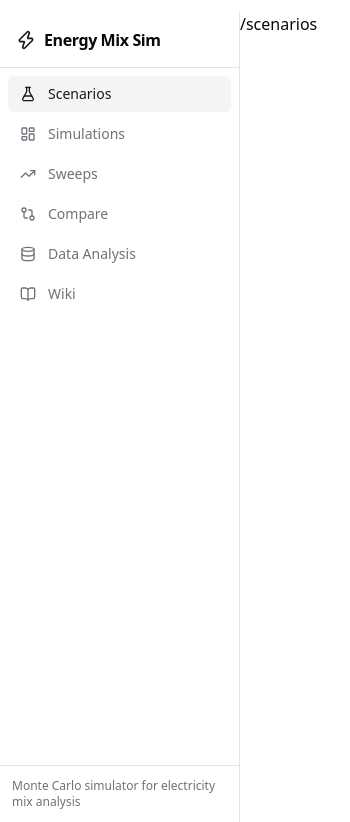
Test case: AppShell navigation › navigates to /simulations when the Simulations link is clicked
Click the link "Simulations": x=72, y=134 [20,124,125,143]
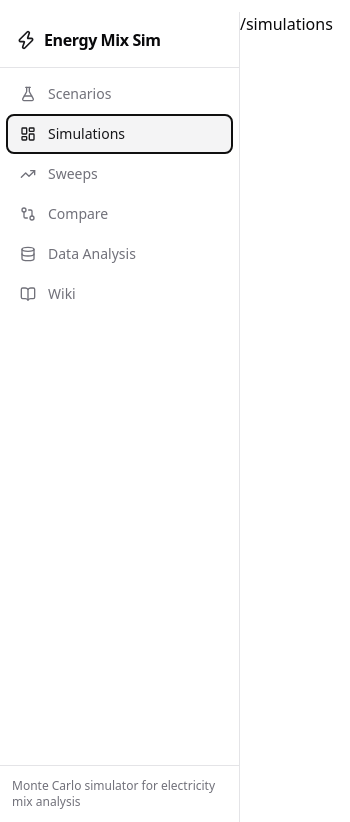
Check: the text with test id "location" reads "/simulations", box [240,13,333,35]
